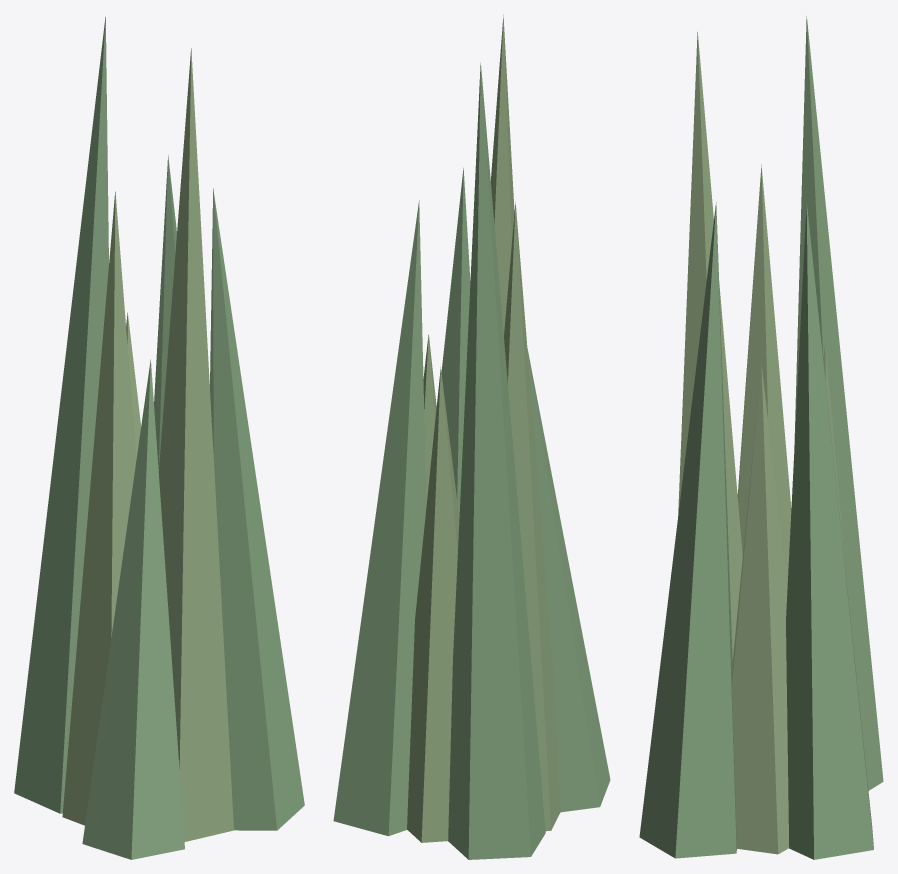
File: tall_grass.glb
3 renders of one model, left to right at view 1: azimuth 30°, elevation 25°; view 2: azimuth 150°, elevation 25°; view 3: azimuth 270°, elevation 25°, orthographic.
Parts seen in each view (by area): view 1: Blade_2, Blade_1, Blade_5, Blade_3, Blade_4, Blade_7, Blade_6; view 2: Blade_5, Blade_7, Blade_6, Blade_3, Blade_4, Blade_1, Blade_2, Blade_0; view 3: Blade_1, Blade_7, Blade_0, Blade_5, Blade_2, Blade_4, Blade_6.
Part boxes in pixels (x1=…): Blade_2: x1=158, y1=48, x2=233, y2=841; Blade_1: x1=210, y1=188, x2=304, y2=830; Blade_5: x1=14, y1=17, x2=108, y2=813; Blade_3: x1=82, y1=359, x2=184, y2=859; Blade_4: x1=62, y1=191, x2=136, y2=825; Blade_7: x1=154, y1=155, x2=176, y2=470; Blade_6: x1=126, y1=312, x2=141, y2=459; Blade_5: x1=448, y1=62, x2=545, y2=859; Blade_7: x1=333, y1=200, x2=426, y2=836; Blade_6: x1=407, y1=367, x2=459, y2=842; Blade_3: x1=527, y1=348, x2=610, y2=812; Blade_4: x1=504, y1=202, x2=560, y2=831; Blade_1: x1=441, y1=168, x2=470, y2=517; Blade_2: x1=491, y1=14, x2=514, y2=335; Blade_0: x1=423, y1=334, x2=436, y2=506; Blade_1: x1=639, y1=202, x2=736, y2=858; Blade_7: x1=786, y1=202, x2=873, y2=859; Blade_0: x1=732, y1=364, x2=789, y2=854; Blade_5: x1=794, y1=16, x2=883, y2=790; Blade_2: x1=678, y1=32, x2=742, y2=660; Blade_4: x1=737, y1=164, x2=791, y2=587; Blade_6: x1=823, y1=343, x2=845, y2=574.
Bounding box in the file's own units: 0.3755 × 1.36 × 0.382.
